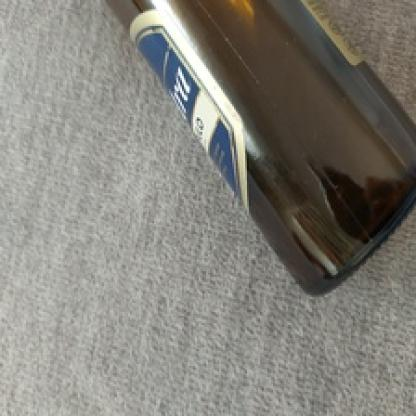Can: (108, 5, 416, 284)
